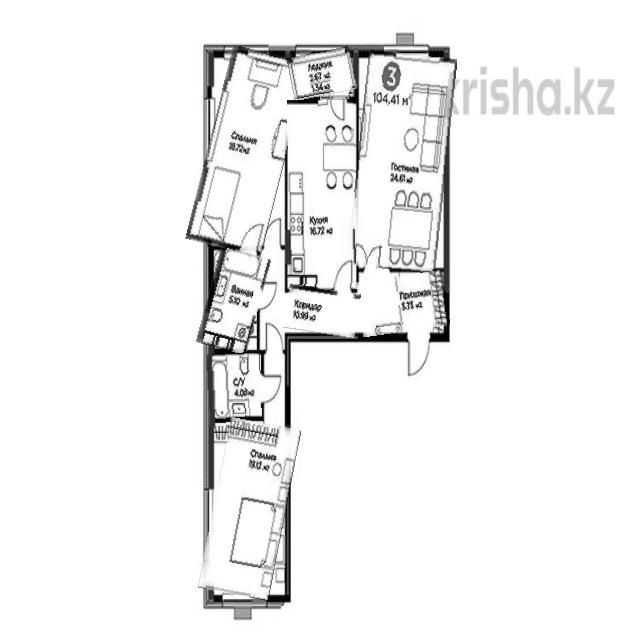balcony: (288, 49, 357, 98)
bathroom: (202, 249, 266, 352), (207, 352, 263, 426)
hallway: (358, 273, 448, 335), (284, 286, 360, 335)
kitchen: (288, 100, 356, 284)
living_room: (352, 52, 452, 272), (196, 48, 298, 254), (206, 419, 294, 599)
